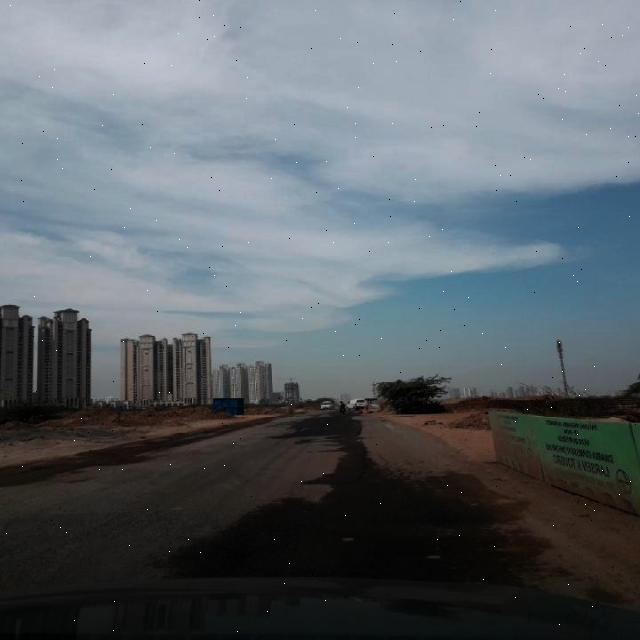D00: (354, 412, 378, 490)
